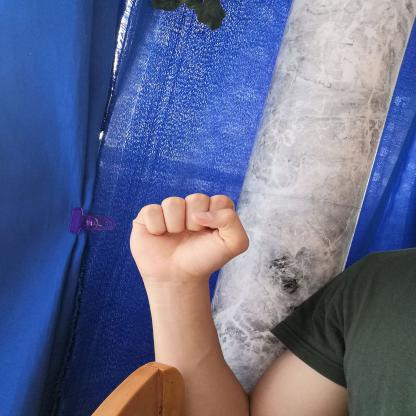SAD: (104, 185, 266, 292)
